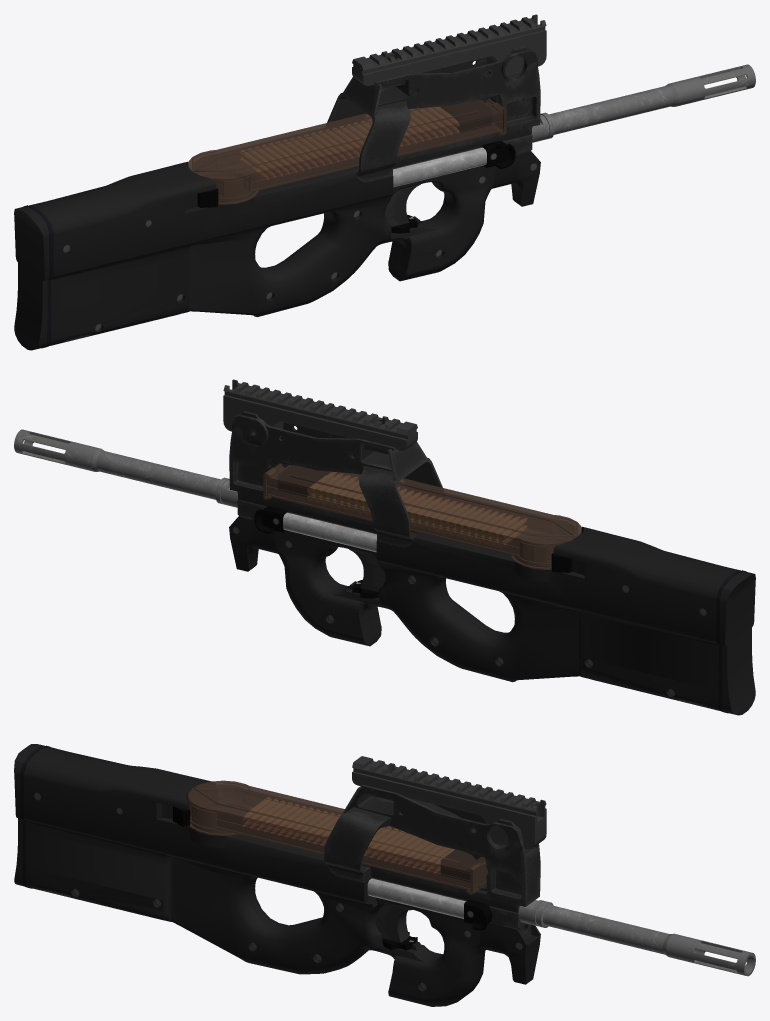
The picture shows the model from 3 angles, top to bottom: view 1: azimuth 30°, elevation 25°; view 2: azimuth 150°, elevation 25°; view 3: azimuth 330°, elevation 25°; orthographic projection.
Parts seen in each view (by area): view 1: PLS_Material #27_0, WHY_Material #28_0; view 2: PLS_Material #27_0, WHY_Material #28_0; view 3: PLS_Material #27_0, WHY_Material #28_0.
Part boxes in pixels (left/top/right/bottom): PLS_Material #27_0: left=14, top=14, right=755, bottom=350; WHY_Material #28_0: left=188, top=98, right=506, bottom=204; PLS_Material #27_0: left=14, top=379, right=755, bottom=715; WHY_Material #28_0: left=263, top=463, right=581, bottom=569; PLS_Material #27_0: left=14, top=744, right=755, bottom=1006; WHY_Material #28_0: left=188, top=780, right=487, bottom=894.
Bounding box in the file's own units: 1733 × 520 × 151.
Materials: 2 (2 with a texture image).
